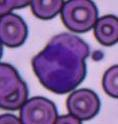E: (32, 35, 88, 94)
